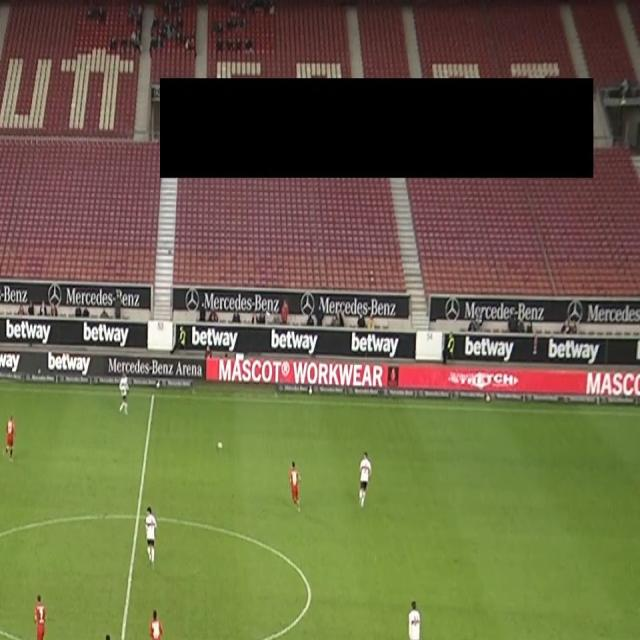ball: (216, 440, 224, 451)
